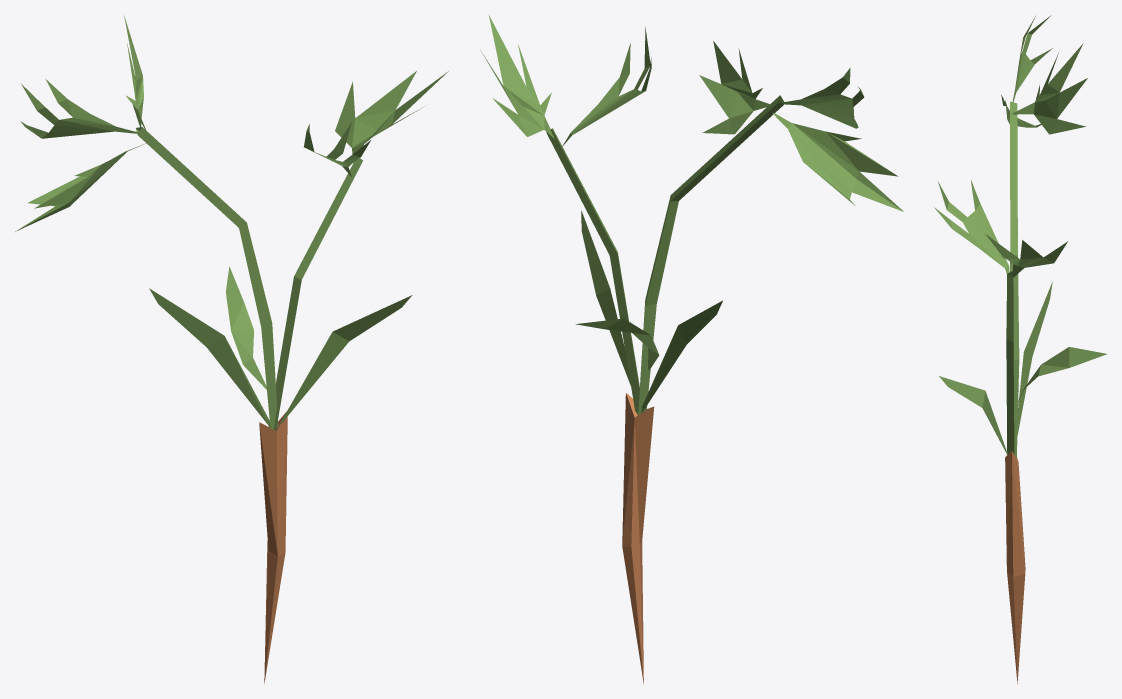
Rendered from Carrot_2.fbx.
The picture shows the model from 3 angles, left to right: view 1: azimuth 30°, elevation 25°; view 2: azimuth 150°, elevation 25°; view 3: azimuth 270°, elevation 25°; orthographic projection. The views are drawn at different scales.
Parts seen in each view (by area): view 1: Carrot_2; view 2: Carrot_2; view 3: Carrot_2.
Boxes of the visible parts, <box> form: Carrot_2: <box>15,15,448,683</box>; Carrot_2: <box>480,15,903,683</box>; Carrot_2: <box>934,15,1106,683</box>.
Size of the model in its own units: 27.91 by 42.8 by 11.34.
